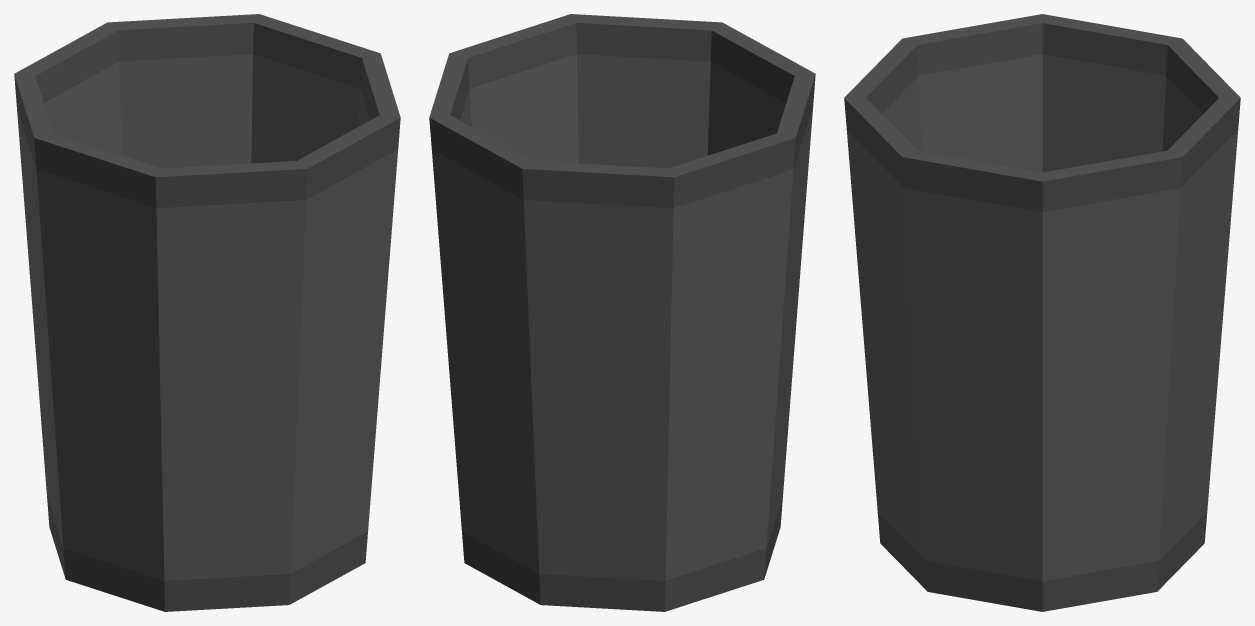
File: TrashCan01.glb
The picture shows the model from 3 angles, left to right: view 1: azimuth 30°, elevation 25°; view 2: azimuth 150°, elevation 25°; view 3: azimuth 270°, elevation 25°; orthographic projection.
Visible parts, largest first — view 1: TrashCan01; view 2: TrashCan01; view 3: TrashCan01.
Boxes of the visible parts, x1,y1,x2,y2 form: TrashCan01: [14, 14, 400, 611]; TrashCan01: [429, 14, 815, 611]; TrashCan01: [844, 14, 1240, 611].
Size of the model in its own units: 0.484 by 0.6 by 0.484.
1 material, 1 textured.
